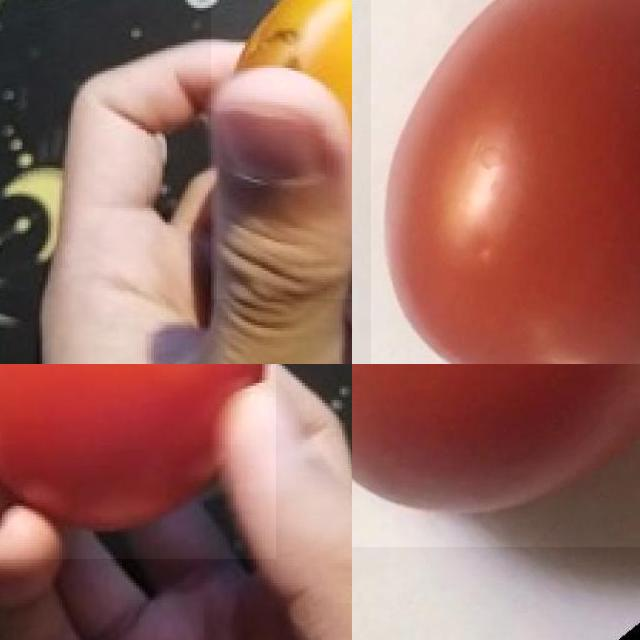Fresh Tomato: (371, 0, 640, 364), (0, 364, 275, 559), (352, 364, 640, 547)
Rotten Tomato: (211, 0, 352, 299)
